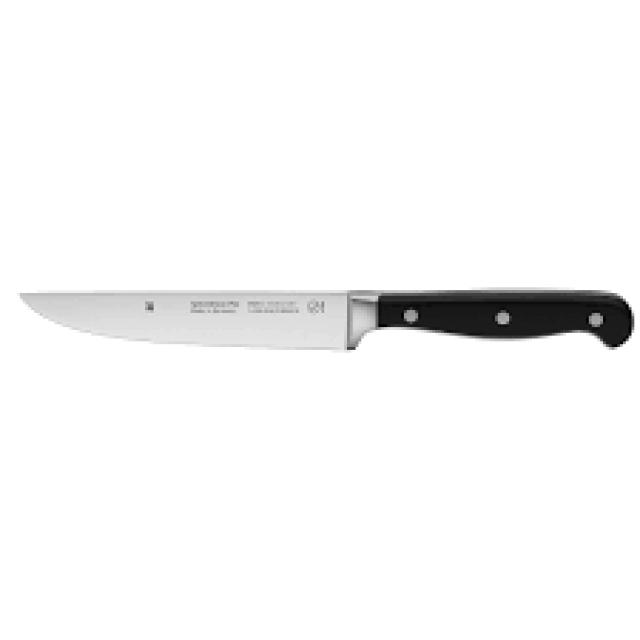knife: (16, 285, 635, 352)
